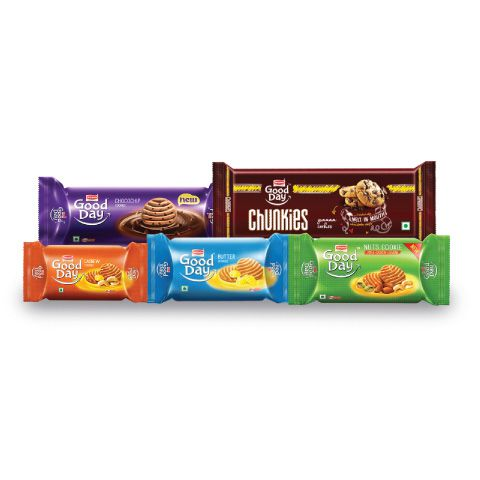VEG: (400, 219, 410, 230), (179, 285, 190, 293), (319, 291, 327, 299), (57, 286, 64, 293)
